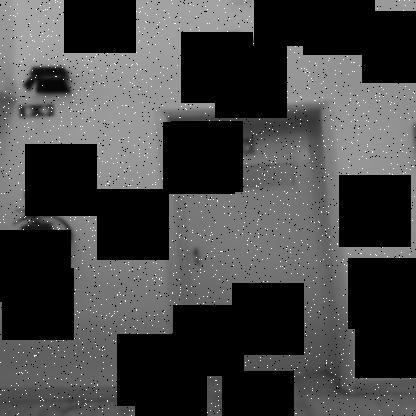Porte: (153, 99, 356, 400)
